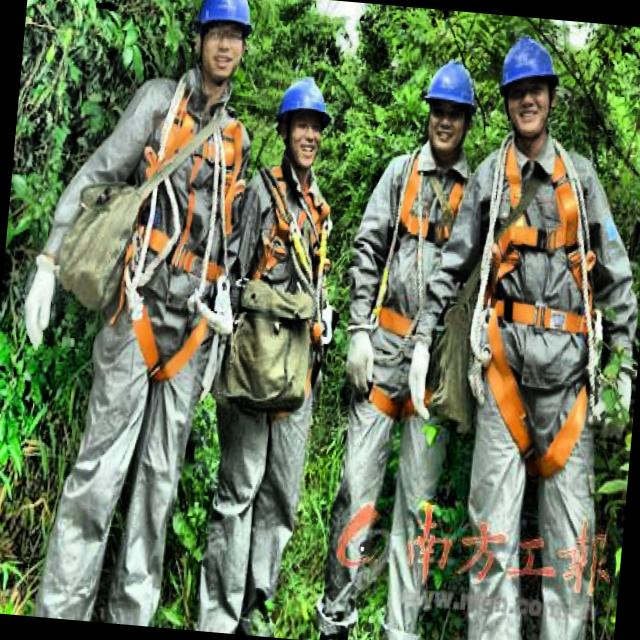helmet: (489, 32, 567, 148), (411, 50, 483, 170), (266, 72, 338, 175), (186, 0, 255, 87)
